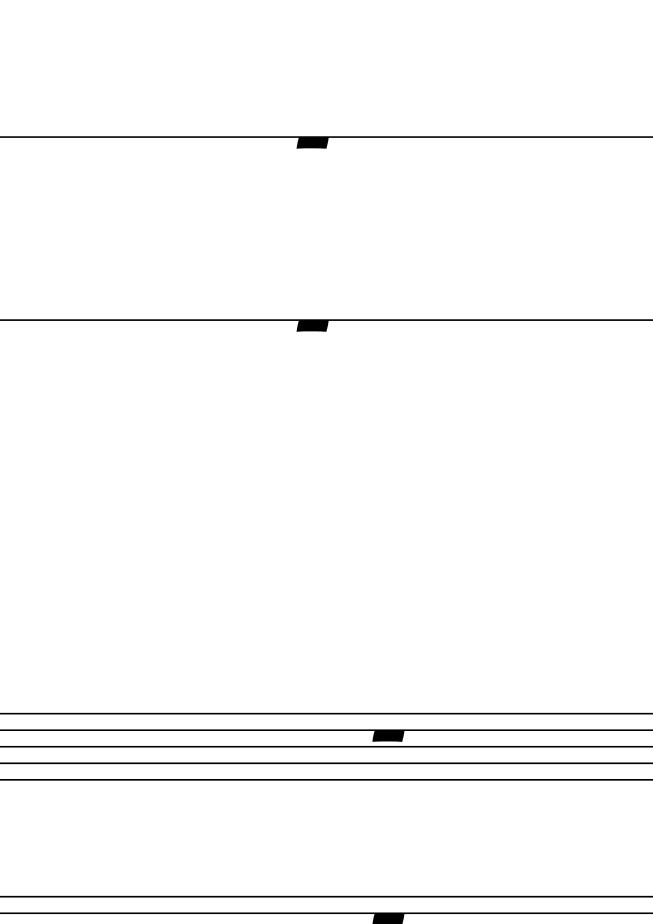Rests1: (291, 316, 334, 335), (293, 136, 333, 156), (369, 727, 409, 745), (369, 909, 410, 924)
